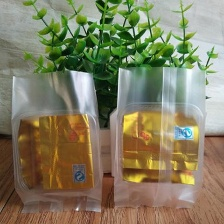snack: (104, 59, 212, 212), (6, 62, 109, 219)
